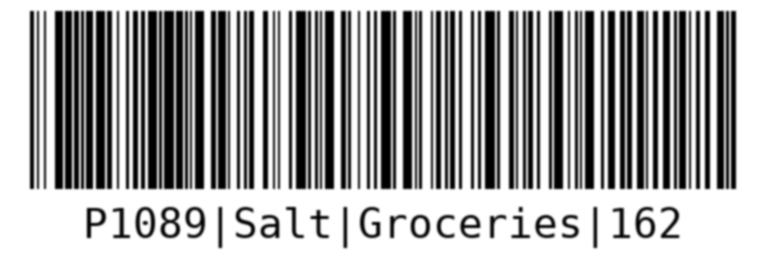milk: (21, 4, 747, 262)
